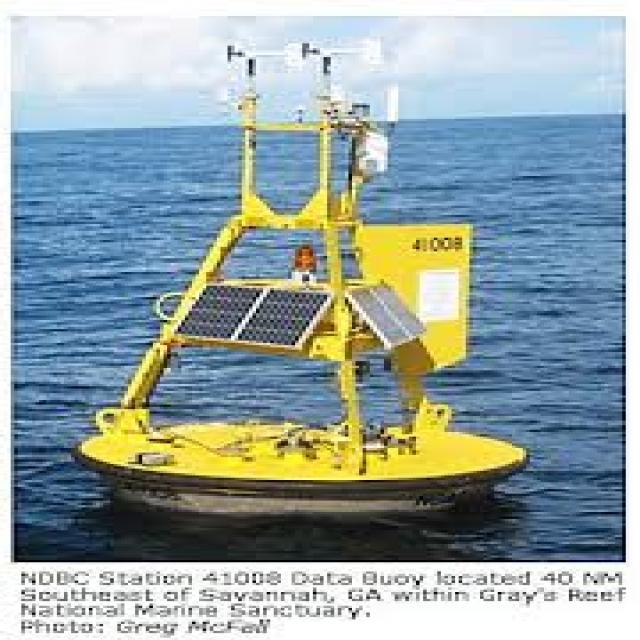buoy: (75, 24, 537, 527)
